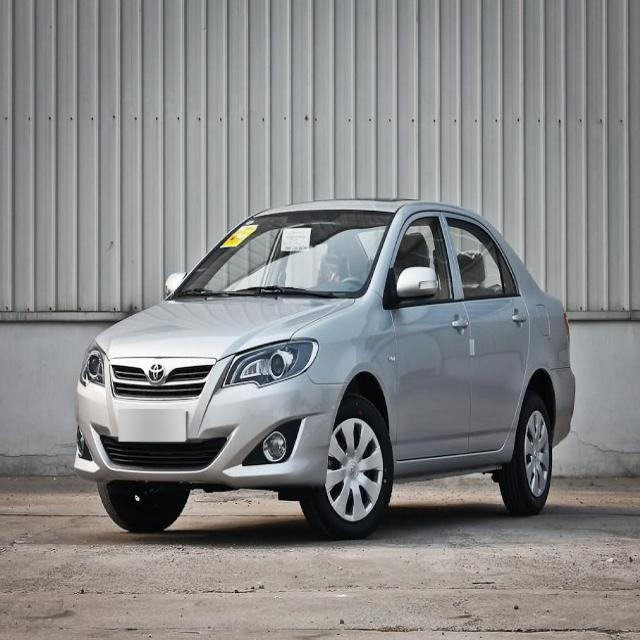back_left_side_light: (562, 310, 571, 340)
door: (441, 215, 531, 464)
front_bumper: (73, 361, 353, 487)
front_glass: (173, 208, 396, 298)
front_left_side_door: (380, 208, 474, 464)
front_left_side_light: (221, 333, 320, 391)
front_left_side_mirror: (386, 266, 438, 307)
front_right_side_light: (80, 338, 108, 392)
front_right_side_mirror: (164, 269, 187, 306)
wheel: (302, 398, 392, 534), (496, 399, 554, 513), (97, 486, 190, 532)
